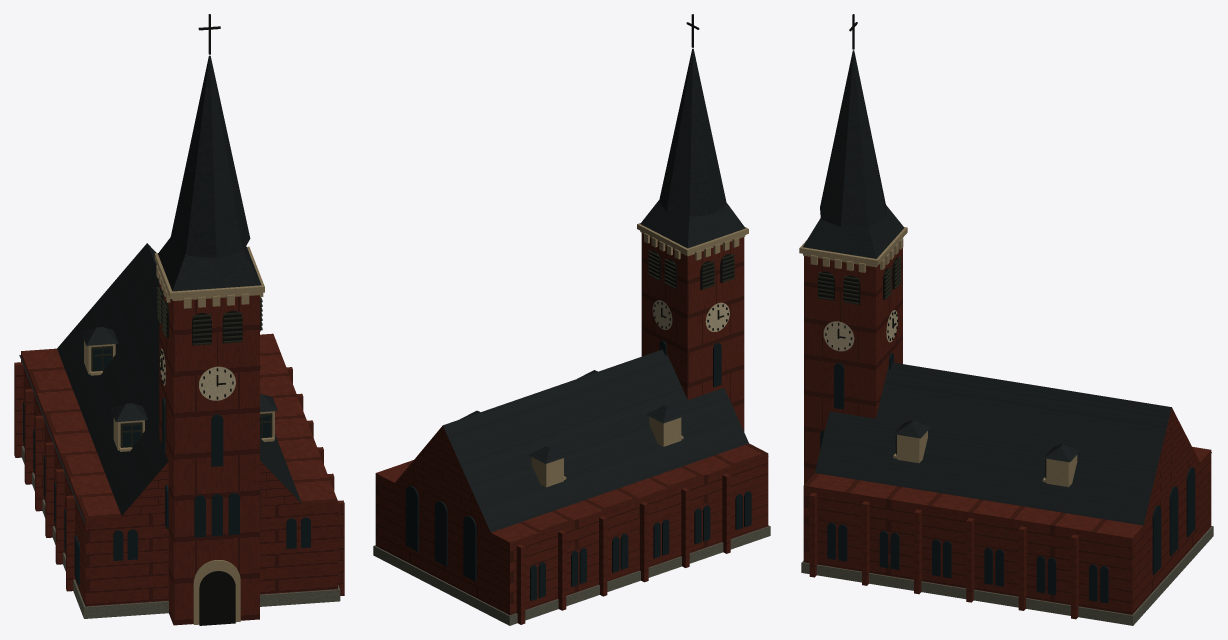
The picture shows the model from 3 angles, left to right: view 1: azimuth 30°, elevation 25°; view 2: azimuth 150°, elevation 25°; view 3: azimuth 270°, elevation 25°; orthographic projection. The views are drawn at different scales.
Parts seen in each view (by area): view 1: waalsekerk-0, waalsekerk-2, waalsekerk-3, waalsekerk-4, waalsekerk-6, waalsekerk-1, waalsekerk-5, waalsekerk-7; view 2: waalsekerk-0, waalsekerk-2, waalsekerk-3, waalsekerk-1, waalsekerk-4, waalsekerk-6, waalsekerk-5, waalsekerk-7; view 3: waalsekerk-0, waalsekerk-2, waalsekerk-3, waalsekerk-1, waalsekerk-4, waalsekerk-6, waalsekerk-5, waalsekerk-7.
Boxes of the visible parts, bbox=[...] form: waalsekerk-0: bbox=[14, 283, 344, 625]; waalsekerk-2: bbox=[19, 55, 301, 522]; waalsekerk-3: bbox=[23, 348, 310, 584]; waalsekerk-4: bbox=[84, 246, 274, 624]; waalsekerk-6: bbox=[159, 14, 260, 625]; waalsekerk-1: bbox=[21, 446, 340, 618]; waalsekerk-5: bbox=[91, 287, 272, 447]; waalsekerk-7: bbox=[160, 348, 235, 400]; waalsekerk-0: bbox=[375, 233, 768, 624]; waalsekerk-2: bbox=[443, 48, 763, 544]; waalsekerk-3: bbox=[405, 340, 751, 600]; waalsekerk-1: bbox=[373, 525, 770, 625]; waalsekerk-4: bbox=[531, 223, 748, 487]; waalsekerk-6: bbox=[649, 14, 734, 330]; waalsekerk-5: bbox=[564, 250, 735, 462]; waalsekerk-7: bbox=[652, 300, 729, 331]; waalsekerk-0: bbox=[803, 248, 1211, 619]; waalsekerk-2: bbox=[803, 50, 1211, 525]; waalsekerk-3: bbox=[820, 353, 1195, 603]; waalsekerk-1: bbox=[801, 526, 1213, 625]; waalsekerk-4: bbox=[799, 227, 1077, 487]; waalsekerk-6: bbox=[818, 14, 900, 350]; waalsekerk-5: bbox=[817, 256, 1046, 479]; waalsekerk-7: bbox=[823, 310, 897, 351].
Size of the model in its own units: 21.14 by 35.6 by 25.91.
Materials: 8 (8 with a texture image).
